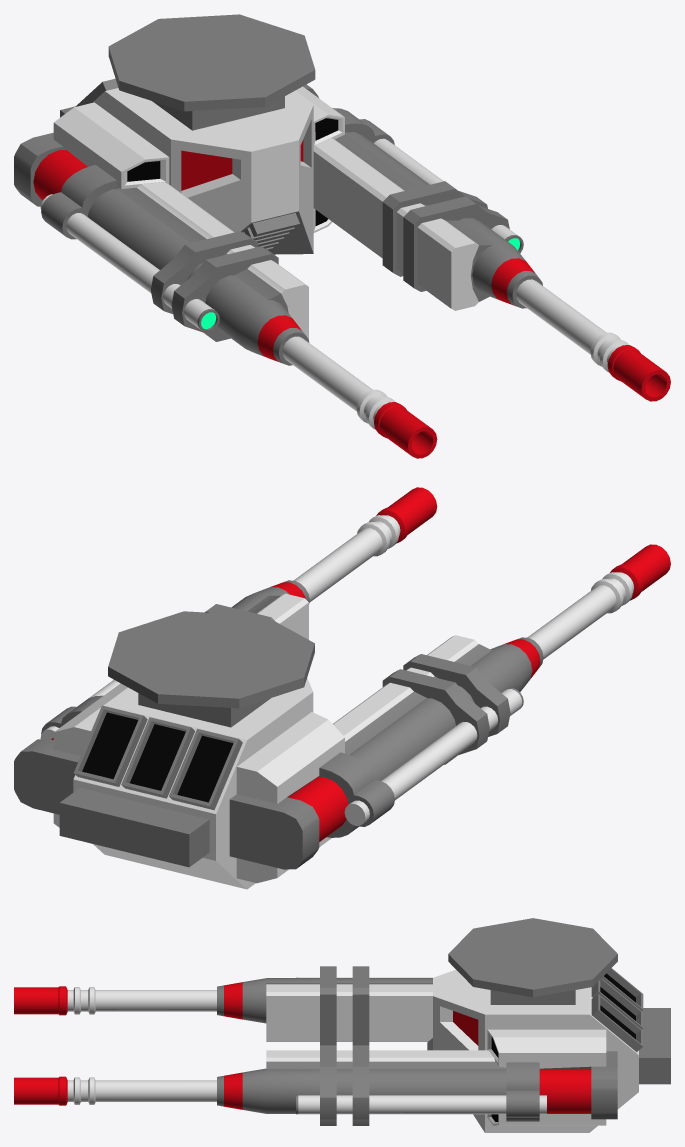
Rendered from 1_FlacCannon.fbx.
The picture shows the model from 3 angles, top to bottom: view 1: azimuth 30°, elevation 25°; view 2: azimuth 150°, elevation 25°; view 3: azimuth 270°, elevation 25°; orthographic projection. The views are drawn at different scales.
Visible parts, largest first — view 1: MainBox, MainMount, MainBarrel.001, MainBody.002, MainBody.001, MainBarrel.002, TopChamber.001, FrontBarrel.002, FrontBarrel.001, TopChamber.002; view 2: MainBox, MainMount, MainBody.001, MainBarrel.001, MainBody.002, TopChamber.001, FrontBarrel.001, FrontBarrel.002, MainBarrel.002, TopChamber.002; view 3: MainBox, MainBarrel.002, MainBody.002, MainMount, MainBody.001, TopChamber.002, MainBarrel.001, FrontBarrel.001, FrontBarrel.002.
Boxes of the visible parts, bbox=[...] form: MainBox: bbox=[60, 78, 313, 254]; MainMount: bbox=[108, 14, 315, 130]; MainBarrel.001: bbox=[33, 150, 309, 365]; MainBody.002: bbox=[295, 84, 491, 310]; MainBody.001: bbox=[14, 102, 308, 339]; MainBarrel.002: bbox=[342, 132, 542, 308]; TopChamber.001: bbox=[40, 165, 219, 332]; FrontBarrel.002: bbox=[516, 279, 670, 401]; FrontBarrel.001: bbox=[282, 336, 437, 458]; TopChamber.002: bbox=[332, 108, 523, 253]; MainBox: bbox=[59, 678, 313, 889]; MainMount: bbox=[108, 611, 314, 727]; MainBody.001: bbox=[229, 635, 491, 883]; MainBarrel.001: bbox=[288, 637, 543, 841]; MainBody.002: bbox=[14, 593, 308, 827]; TopChamber.001: bbox=[319, 688, 523, 837]; FrontBarrel.001: bbox=[527, 544, 670, 659]; FrontBarrel.002: bbox=[294, 487, 437, 602]; MainBarrel.002: bbox=[51, 580, 309, 739]; TopChamber.002: bbox=[40, 680, 120, 739]; MainBox: bbox=[427, 968, 670, 1132]; MainBarrel.002: bbox=[217, 1045, 591, 1125]; MainBody.002: bbox=[266, 1029, 617, 1125]; MainMount: bbox=[448, 918, 617, 1004]; MainBody.001: bbox=[266, 983, 432, 1041]; TopChamber.002: bbox=[296, 1062, 546, 1121]; MainBarrel.001: bbox=[217, 966, 432, 1045]; FrontBarrel.001: bbox=[14, 986, 216, 1015]; FrontBarrel.002: bbox=[14, 1076, 216, 1105].
Size of the model in its own units: 359 by 203 by 775.
